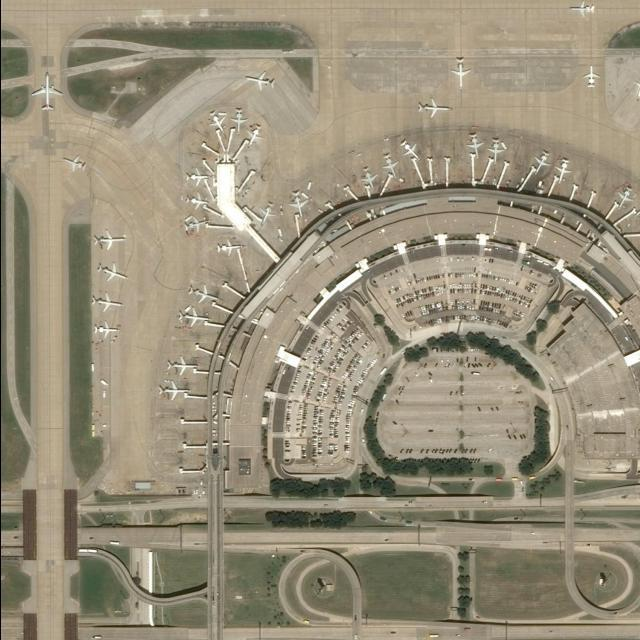Aircraft: (28, 69, 62, 111), (413, 95, 453, 119), (446, 53, 472, 89), (163, 353, 201, 377), (182, 280, 218, 305), (87, 291, 123, 315), (91, 259, 127, 283), (91, 227, 125, 251), (174, 306, 208, 330), (243, 67, 277, 91), (154, 378, 189, 401), (551, 152, 574, 184), (484, 132, 506, 164), (57, 150, 87, 173), (226, 101, 246, 135), (180, 212, 210, 234), (462, 130, 484, 160), (610, 182, 633, 210), (529, 146, 551, 174), (88, 318, 117, 339), (379, 150, 399, 180), (397, 138, 422, 162), (580, 63, 601, 91), (182, 191, 211, 211), (183, 165, 209, 187), (287, 190, 308, 217), (212, 235, 240, 255), (204, 107, 226, 132), (564, 1, 595, 17), (244, 122, 263, 148), (255, 200, 275, 223), (358, 165, 377, 189), (630, 69, 640, 97), (630, 195, 640, 219)
